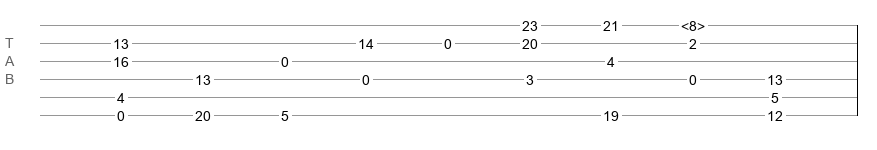0: (117, 108, 125, 118), (281, 54, 289, 64), (362, 72, 370, 82), (444, 36, 452, 46), (689, 72, 697, 82)
12: (767, 108, 783, 118)
13: (113, 36, 129, 46), (195, 72, 211, 82), (767, 72, 783, 82)
14: (358, 36, 374, 46)
16: (113, 54, 129, 64)
19: (603, 108, 619, 118)
2: (689, 36, 697, 46)
20: (195, 108, 211, 118), (522, 36, 538, 46)
21: (603, 18, 619, 28)
23: (522, 18, 538, 28)
3: (526, 72, 534, 82)
4: (117, 90, 125, 100), (607, 54, 615, 64)
5: (281, 108, 289, 118), (771, 90, 779, 100)
harmonic: (681, 18, 705, 28)
